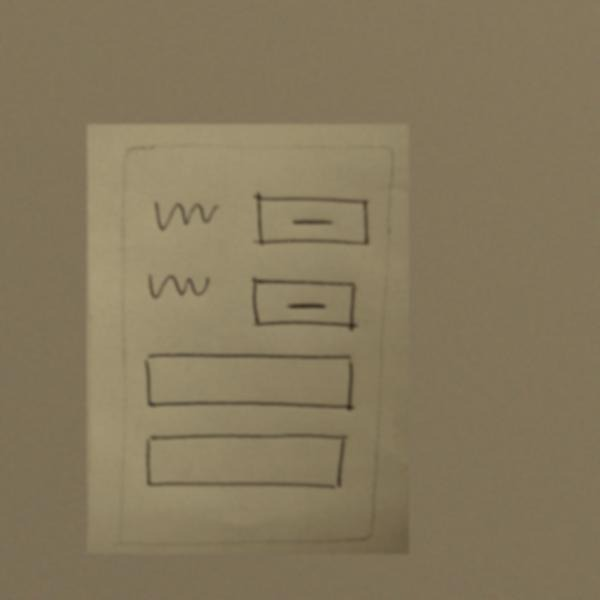button: (250, 189, 374, 254), (247, 273, 364, 334)
text: (147, 195, 221, 235), (145, 268, 212, 305)
text_input: (140, 349, 359, 414), (139, 430, 352, 495)
